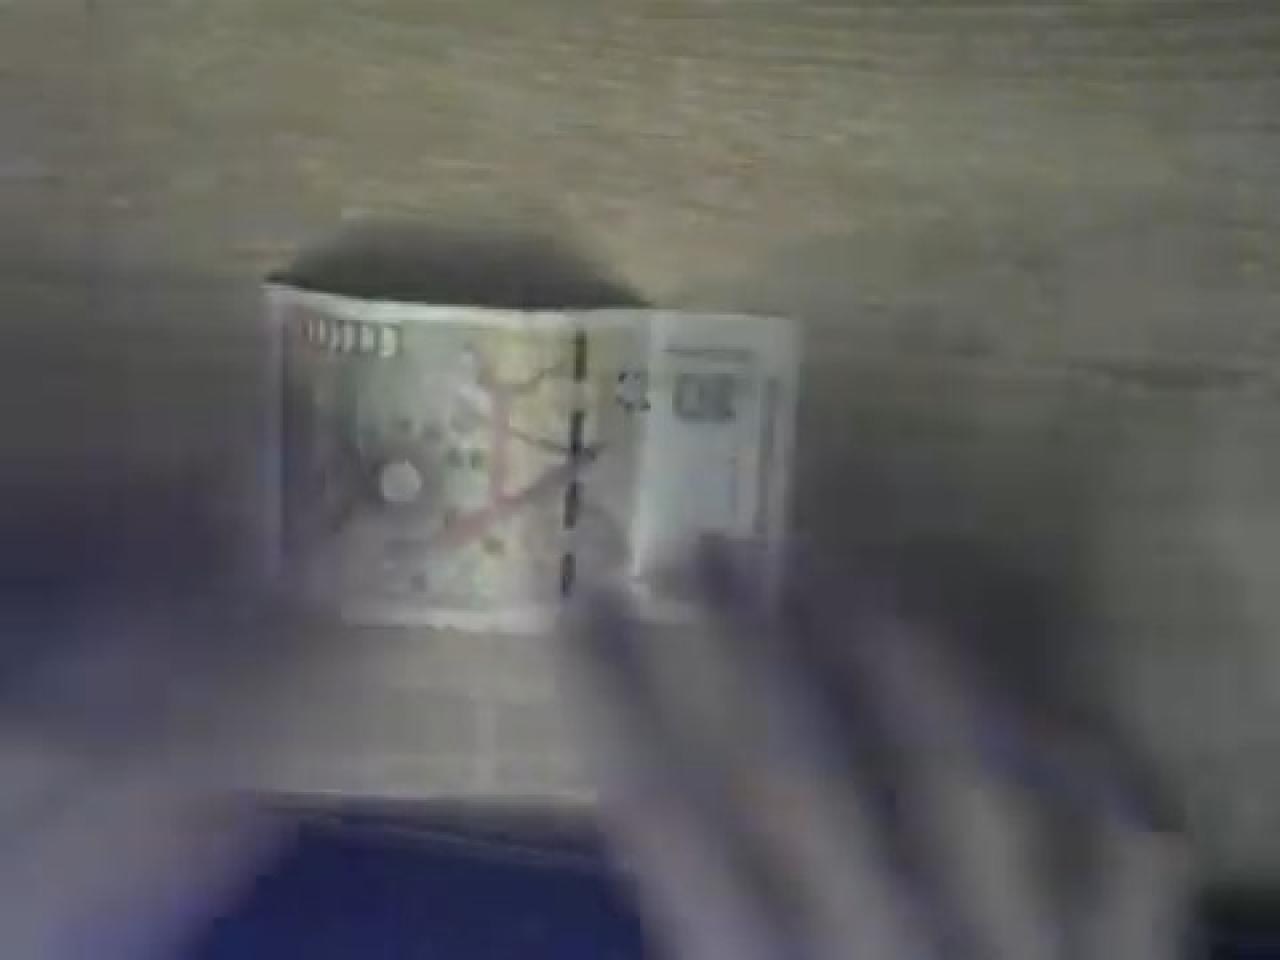10leva: (507, 302, 800, 624)
